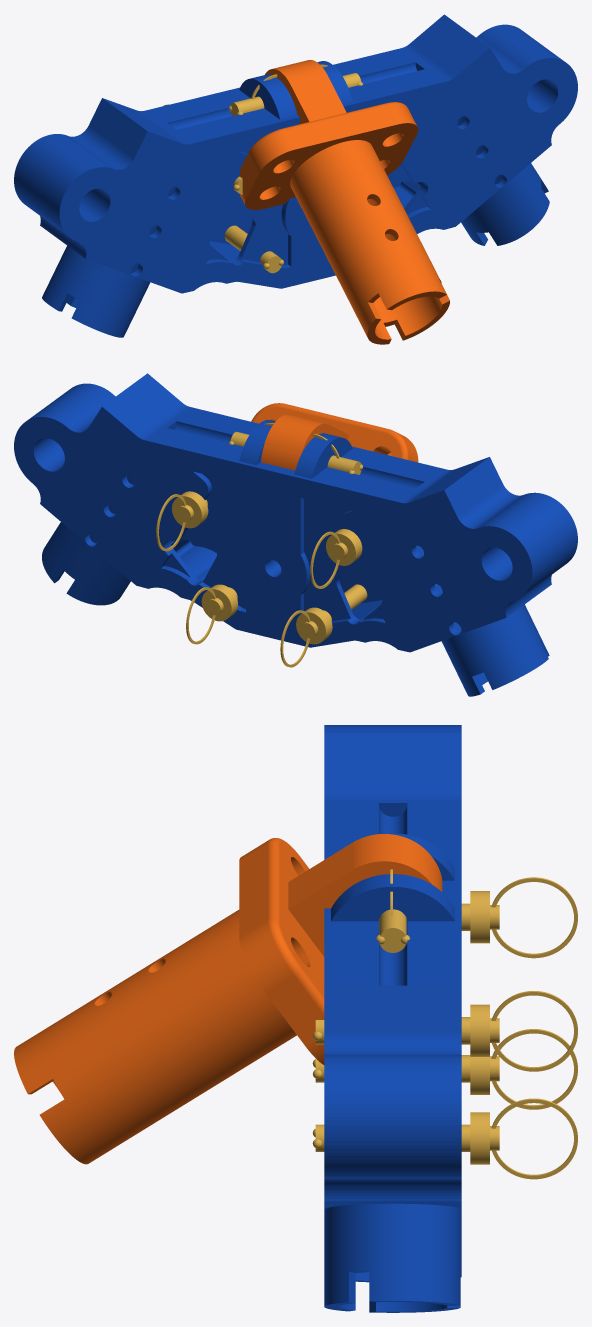
The model's file is 00_cabeza_tripode.glb.
The picture shows the model from 3 angles, top to bottom: view 1: azimuth 30°, elevation 25°; view 2: azimuth 150°, elevation 25°; view 3: azimuth 270°, elevation 25°; orthographic projection. The views are drawn at different scales.
Visible parts, largest first — view 1: aframe, gin, pas_I3, bis-1; view 2: aframe, gin, pas_I3, pas_I4, pas_I2, pas_I1, bis-1; view 3: aframe, gin, pas_I4, pas_I2, pas_I1, pas_I3, bis1.
Boxes of the visible parts, <box> form: aframe: <box>14,14,577,337</box>; gin: <box>240,60,449,344</box>; pas_I3: <box>224,225,283,273</box>; bis-1: <box>228,64,328,115</box>; aframe: <box>14,373,577,696</box>; gin: <box>251,403,418,470</box>; pas_I3: <box>280,584,367,667</box>; pas_I4: <box>186,584,237,644</box>; pas_I2: <box>156,491,208,551</box>; pas_I1: <box>310,529,362,588</box>; bis-1: <box>264,423,363,474</box>; aframe: <box>324,725,461,1312</box>; gin: <box>14,834,442,1164</box>; pas_I4: <box>312,1098,577,1179</box>; pas_I2: <box>313,991,577,1071</box>; pas_I1: <box>461,877,577,958</box>; pas_I3: <box>312,1029,577,1109</box>; bis1: <box>376,909,410,952</box>.
Size of the model in its own units: 417 by 170 by 260.
